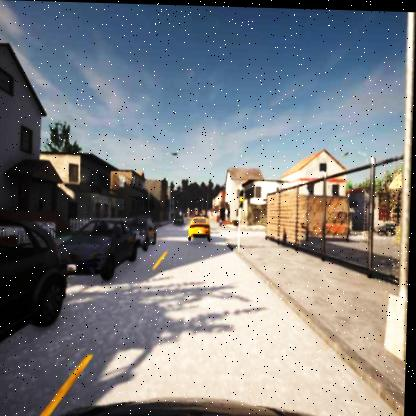vehicle: (0, 214, 72, 389), (58, 217, 140, 280), (128, 213, 157, 246), (188, 215, 212, 240)
